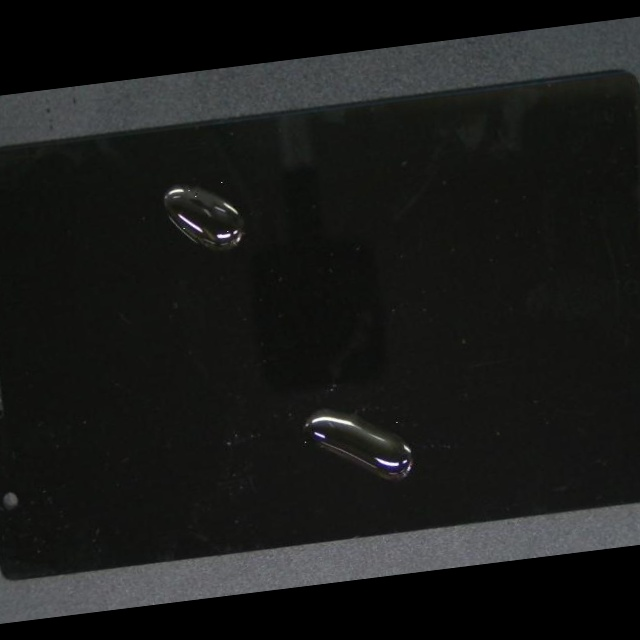oil: (126, 239, 628, 604), (37, 112, 299, 270)
